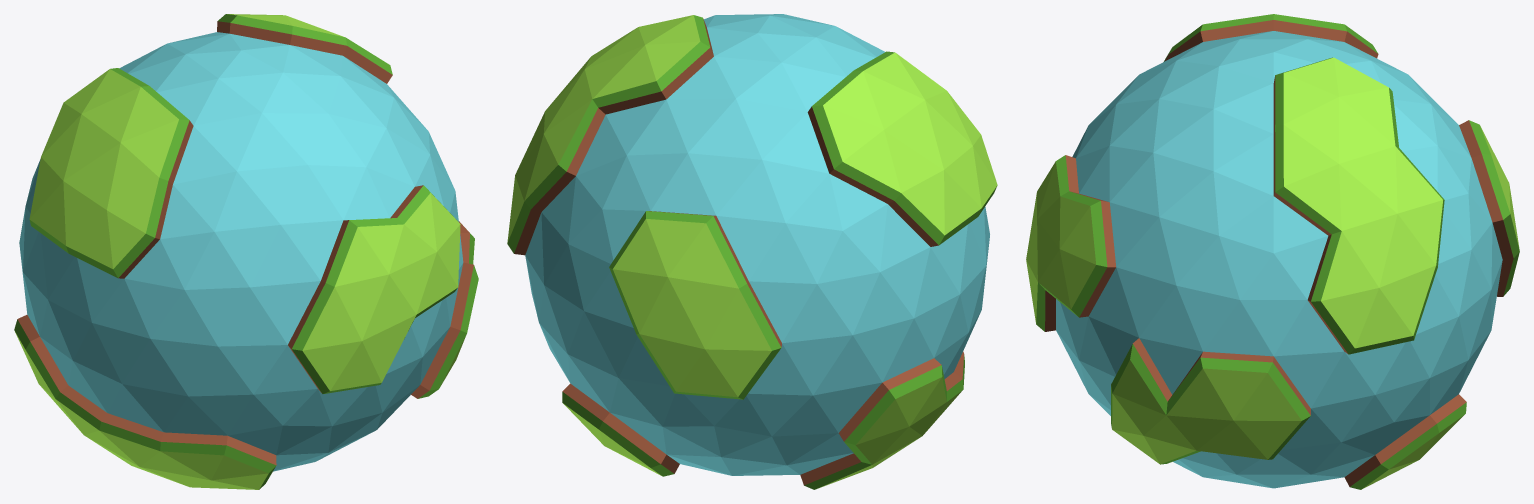
Rendered from PlanetBase.glb.
3 renders of one model, left to right at view 1: azimuth 30°, elevation 25°; view 2: azimuth 150°, elevation 25°; view 3: azimuth 270°, elevation 25°, orthographic. The views are drawn at different scales.
Parts seen in each view (by area): view 1: Icosphere; view 2: Icosphere; view 3: Icosphere.
Boxes of the visible parts, x1=… form: Icosphere: x1=14, y1=14, x2=478, y2=489; Icosphere: x1=507, y1=14, x2=997, y2=489; Icosphere: x1=1026, y1=14, x2=1519, y2=489.
Size of the model in its own units: 2.09 by 2.06 by 2.16.
